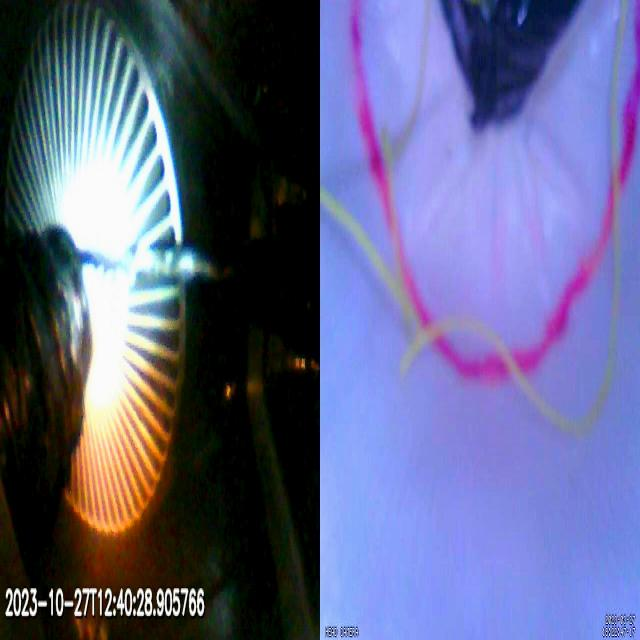red-circle: (350, 0, 639, 387)
